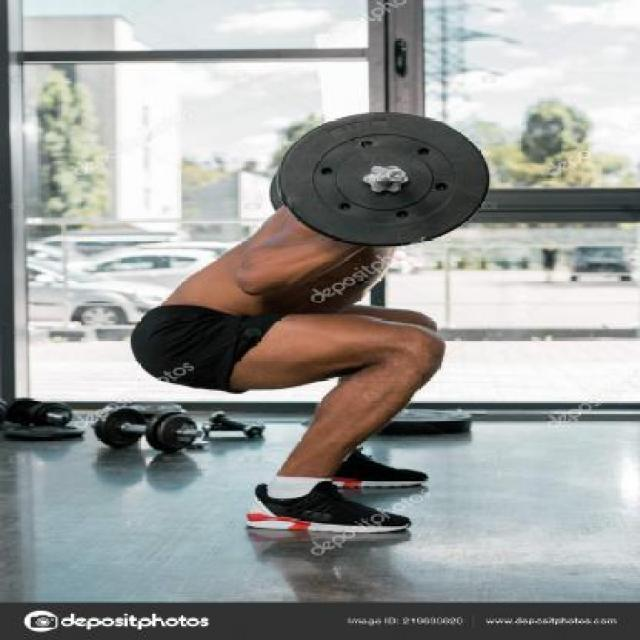Barbell: (382, 164, 412, 184)
